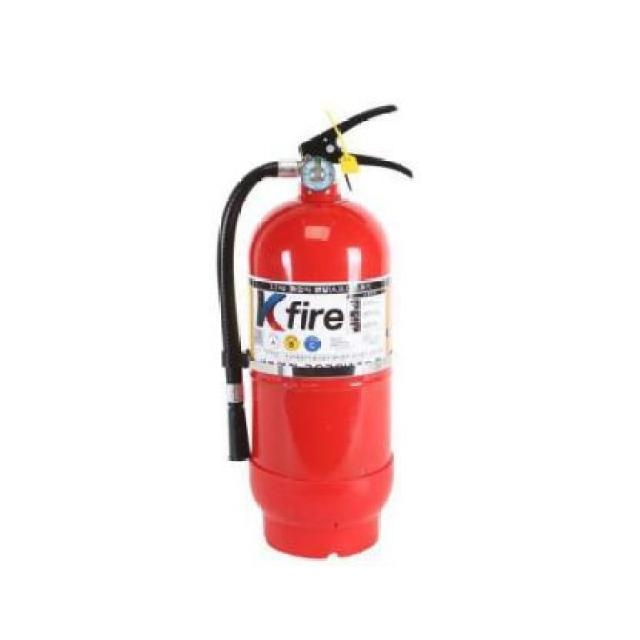fire extinguisher: (216, 105, 413, 559)
